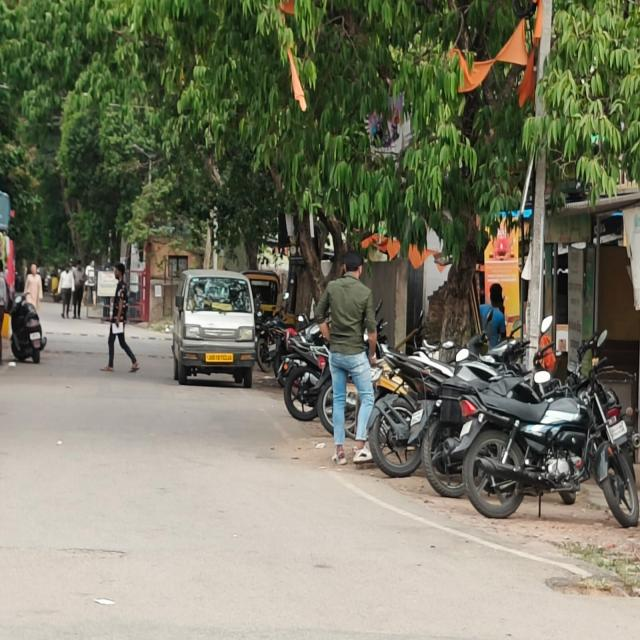bike: (456, 362, 638, 538), (6, 292, 46, 369)
car: (166, 263, 262, 394)
